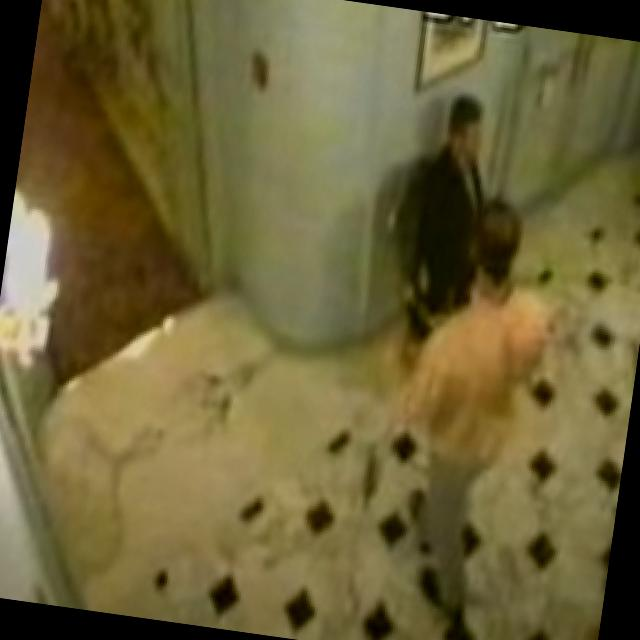person: (362, 188, 570, 640), (372, 85, 506, 364)
